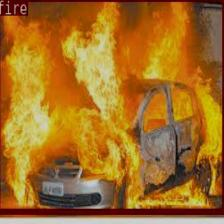fire: (0, 0, 224, 212)
